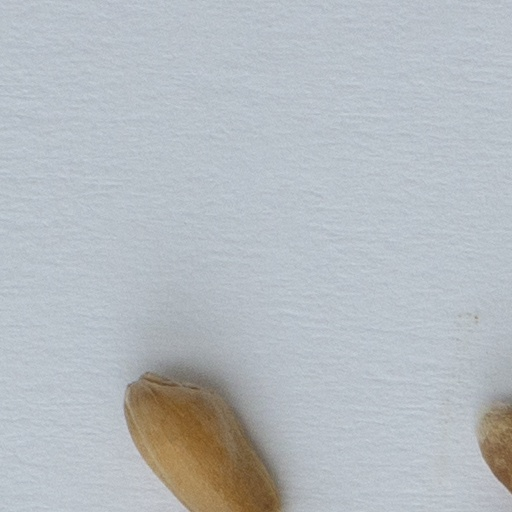Wheat-grain-poly: (120, 367, 284, 511), (477, 402, 511, 497)
